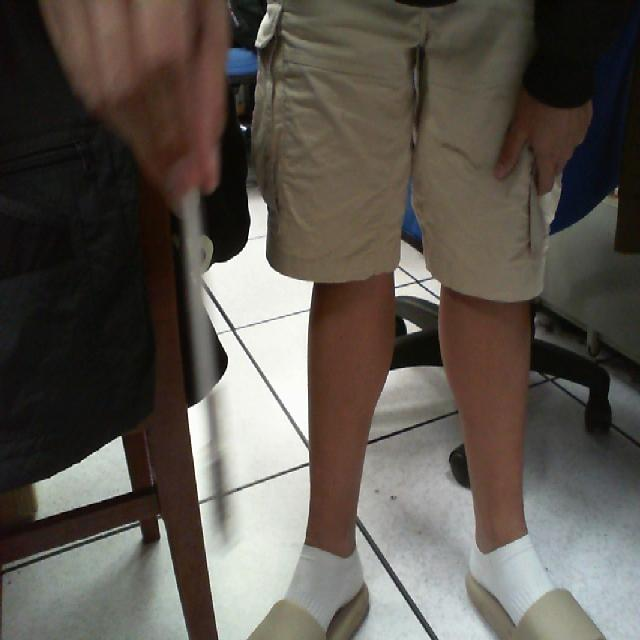Pen: (162, 141, 258, 572)
